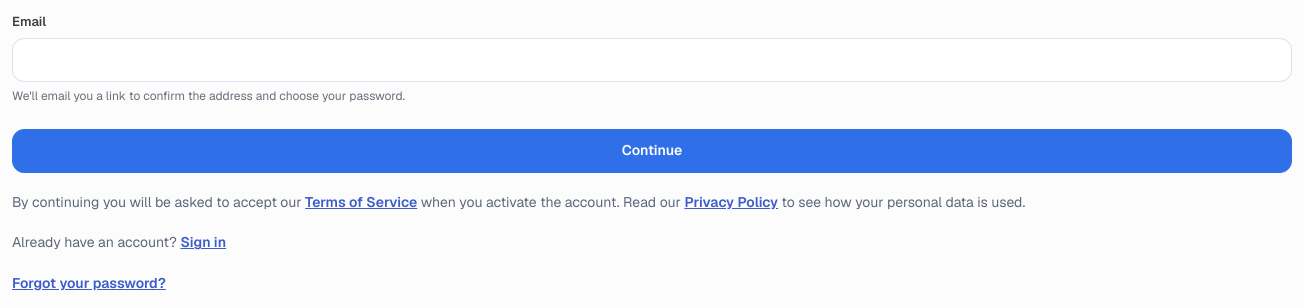
Scenario: RegisterForm (email-first, AUTH-003) › sends only the address and shows the neutral confirmation
Type "person@example.com" into the field labelled "Email". click: point(652, 60)
box: [12,38,1292,82]
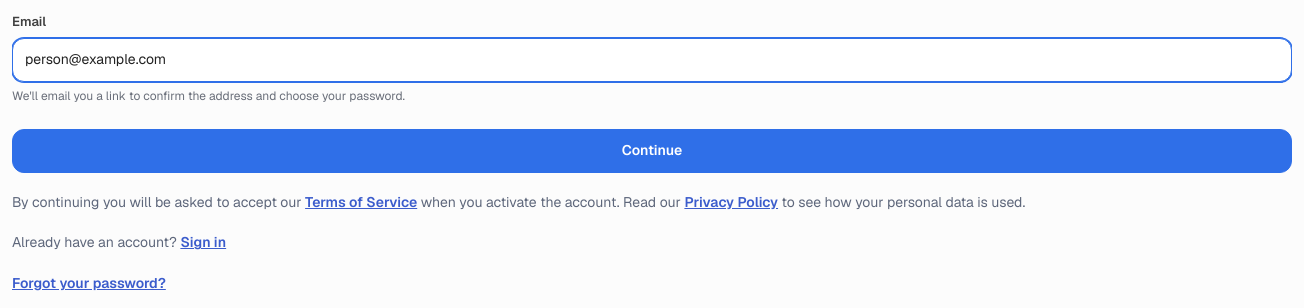
Click the button "Continue". click: point(652, 151)
box: [12,129,1292,173]
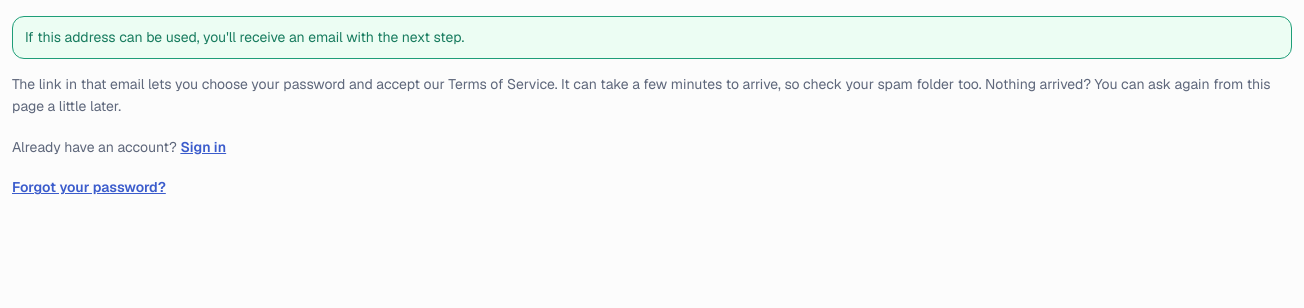
Check: the message reads "If this address can be used, you'll receive an email with the next step.", box [25,28,464,46]
Check: the button "Continue" is gone
